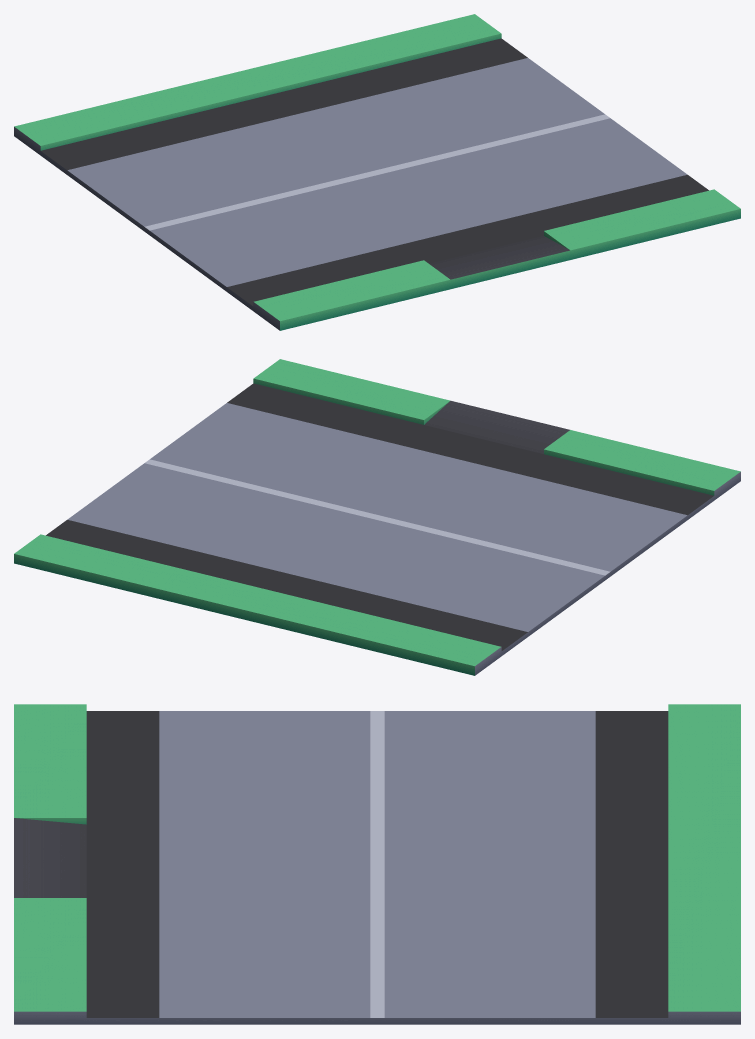
File: road_driveway_single.glb
3 views of the same model, one above another, from view 1: azimuth 30°, elevation 25°; view 2: azimuth 150°, elevation 25°; view 3: azimuth 270°, elevation 25° (orthographic). The views are drawn at different scales.
Visible parts, largest first — view 1: road-driveway-single; view 2: road-driveway-single; view 3: road-driveway-single.
Part boxes in pixels (x1,y1,x2,y2): road-driveway-single: (14,14,740,330); road-driveway-single: (14,359,740,675); road-driveway-single: (14,704,740,1024).
Size of the model in its own units: 1 by 0.02 by 1.
Materials: 1 (1 with a texture image).
